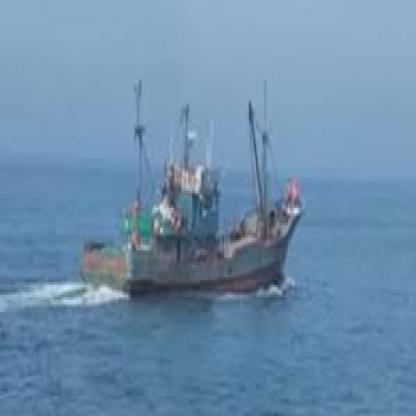fish-b: (71, 60, 310, 300)
